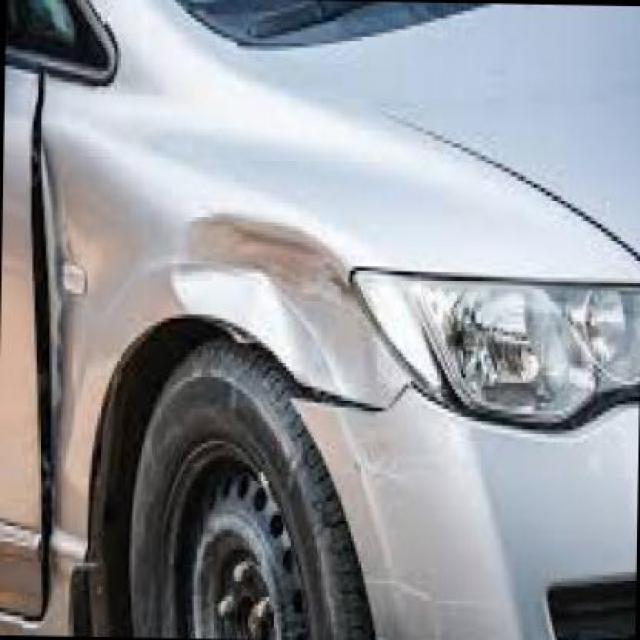dent: (171, 215, 429, 413)
